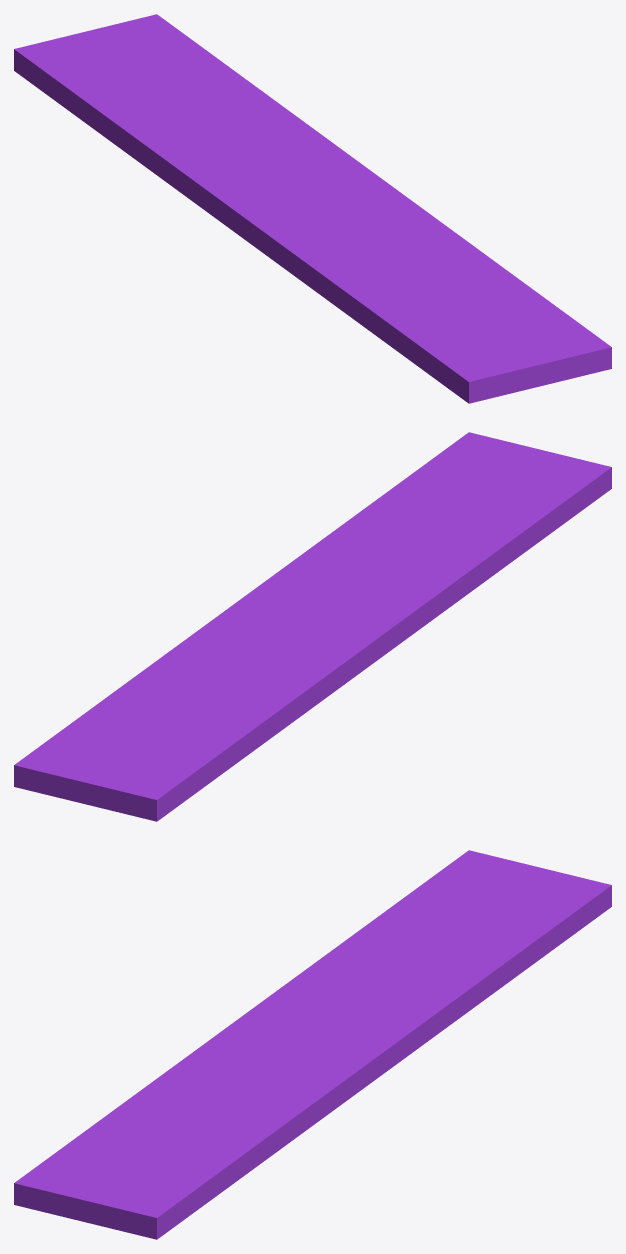
The model's file is StairsStep_69_chunks.fbx.
3 renders of one model, top to bottom at view 1: azimuth 30°, elevation 25°; view 2: azimuth 150°, elevation 25°; view 3: azimuth 330°, elevation 25°, orthographic.
Parts seen in each view (by area): view 1: StairsStep_69_2, StairsStep_69_9, StairsStep_69_1, StairsStep_69_0, StairsStep_69_5, StairsStep_69_8, StairsStep_69_7, StairsStep_69_3, StairsStep_69_6; view 2: StairsStep_69_9, StairsStep_69_2, StairsStep_69_1, StairsStep_69_0, StairsStep_69_5, StairsStep_69_8, StairsStep_69_7, StairsStep_69_3, StairsStep_69_6; view 3: StairsStep_69_2, StairsStep_69_9, StairsStep_69_5, StairsStep_69_7, StairsStep_69_0, StairsStep_69_8, StairsStep_69_1, StairsStep_69_3.
Boxes of the visible parts, left/top/right/bottom form: StairsStep_69_2: left=362, top=274, right=611, bottom=403; StairsStep_69_9: left=14, top=14, right=266, bottom=133; StairsStep_69_1: left=141, top=146, right=305, bottom=283; StairsStep_69_0: left=291, top=192, right=387, bottom=322; StairsStep_69_5: left=357, top=186, right=513, bottom=275; StairsStep_69_8: left=140, top=130, right=372, bottom=195; StairsStep_69_7: left=231, top=94, right=391, bottom=189; StairsStep_69_3: left=304, top=237, right=409, bottom=325; StairsStep_69_6: left=75, top=115, right=176, bottom=163; StairsStep_69_9: left=14, top=679, right=259, bottom=821; StairsStep_69_2: left=371, top=432, right=611, bottom=566; StairsStep_69_1: left=284, top=597, right=448, bottom=728; StairsStep_69_0: left=279, top=526, right=530, bottom=621; StairsStep_69_5: left=249, top=504, right=419, bottom=602; StairsStep_69_8: left=215, top=598, right=313, bottom=711; StairsStep_69_7: left=124, top=593, right=264, bottom=684; StairsStep_69_3: left=366, top=543, right=506, bottom=608; StairsStep_69_6: left=218, top=698, right=287, bottom=776; StairsStep_69_2: left=14, top=1107, right=260, bottom=1239; StairsStep_69_9: left=366, top=850, right=611, bottom=979; StairsStep_69_5: left=206, top=1047, right=382, bottom=1163; StairsStep_69_7: left=361, top=965, right=511, bottom=1073; StairsStep_69_0: left=95, top=1028, right=346, bottom=1123; StairsStep_69_8: left=312, top=942, right=410, bottom=1051; StairsStep_69_1: left=193, top=947, right=336, bottom=1052; StairsStep_69_3: left=151, top=1074, right=259, bottom=1107.
Size of the model in its own units: 200 by 28.98 by 1102.
